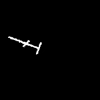double_crochet: (9, 37, 40, 53)
